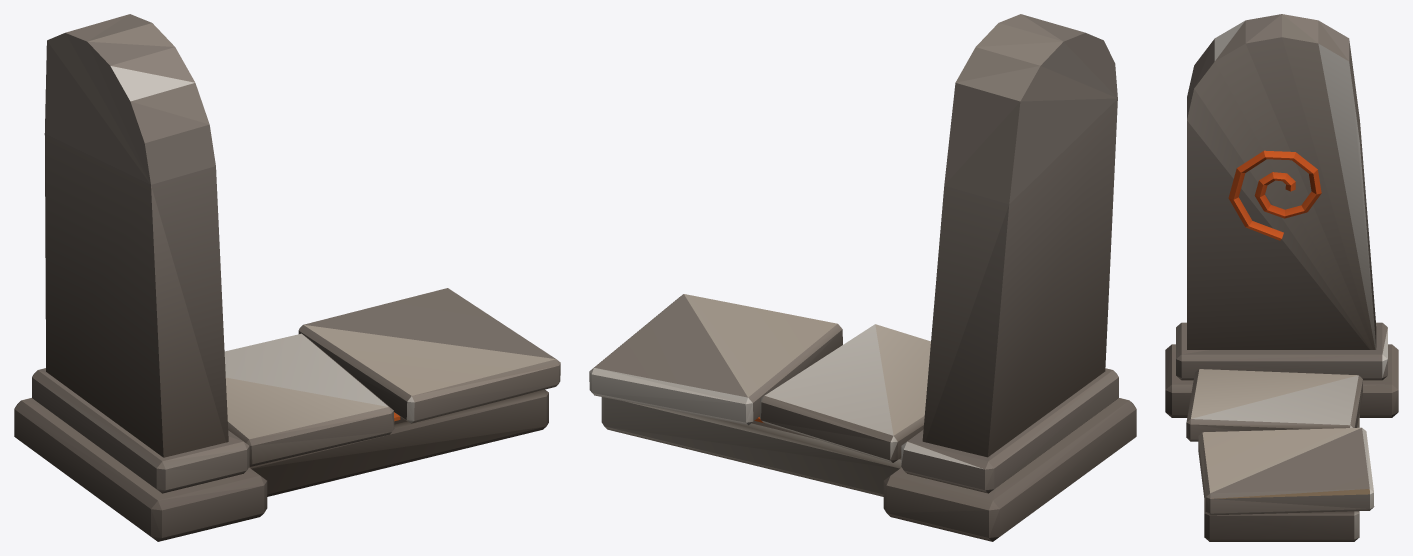
File: abyss_tomb.glb
The picture shows the model from 3 angles, left to right: view 1: azimuth 30°, elevation 25°; view 2: azimuth 150°, elevation 25°; view 3: azimuth 270°, elevation 25°; orthographic projection. The views are drawn at different scales.
Parts seen in each view (by area): view 1: ca_abyss_tomb; view 2: ca_abyss_tomb; view 3: ca_abyss_tomb.
Boxes of the visible parts, x1,y1,x2,y2 form: ca_abyss_tomb: (14,14,560,541); ca_abyss_tomb: (589,14,1136,541); ca_abyss_tomb: (1165,14,1398,541).
Size of the model in its own units: 2.09 by 2.11 by 1.21.
1 material, 1 textured.
